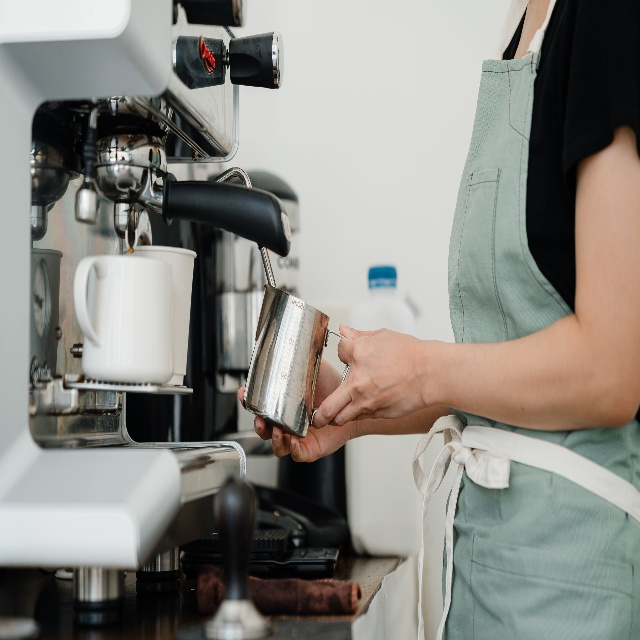Sin_guantes: (237, 343, 355, 462), (312, 323, 422, 430)
